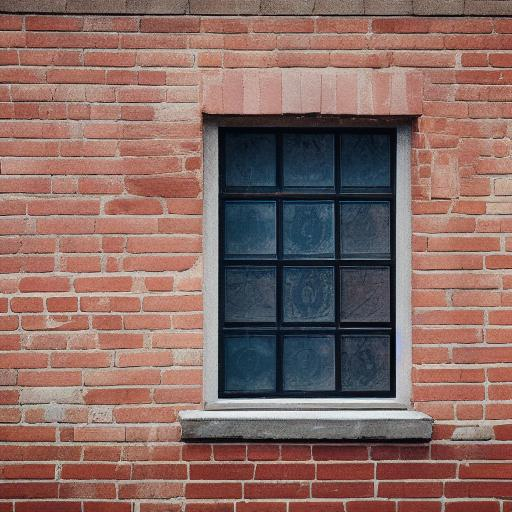Window: (178, 65, 437, 448)
